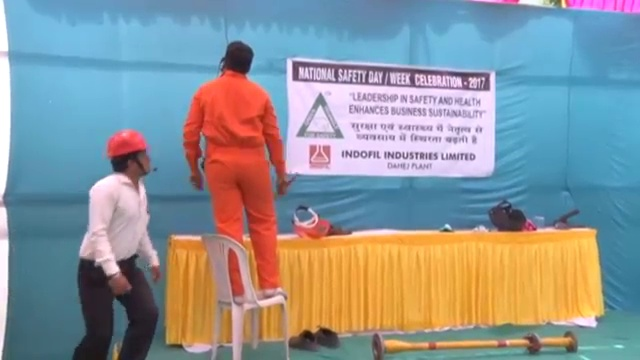helmet: (104, 127, 149, 157)
helmet_off: (216, 38, 255, 78)
helmet_on: (102, 125, 153, 180)
person: (181, 36, 296, 302), (67, 124, 165, 360)
